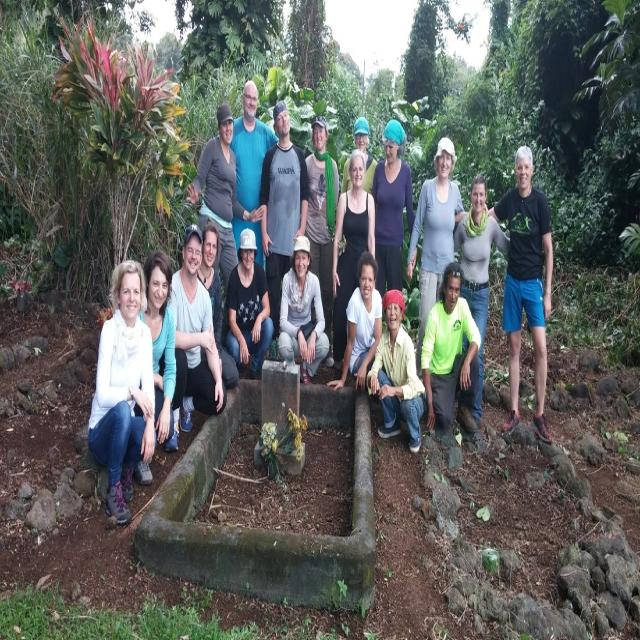body: (486, 144, 554, 444), (86, 259, 156, 526), (453, 171, 513, 429), (161, 223, 228, 452), (185, 104, 264, 293), (405, 137, 465, 380), (326, 252, 398, 408), (225, 78, 281, 276), (259, 100, 301, 362), (132, 249, 178, 486), (331, 147, 376, 389), (420, 263, 482, 434), (369, 287, 426, 453), (304, 115, 340, 370), (369, 118, 415, 303), (276, 234, 330, 388), (196, 224, 239, 416), (225, 229, 274, 381), (339, 115, 379, 197)
